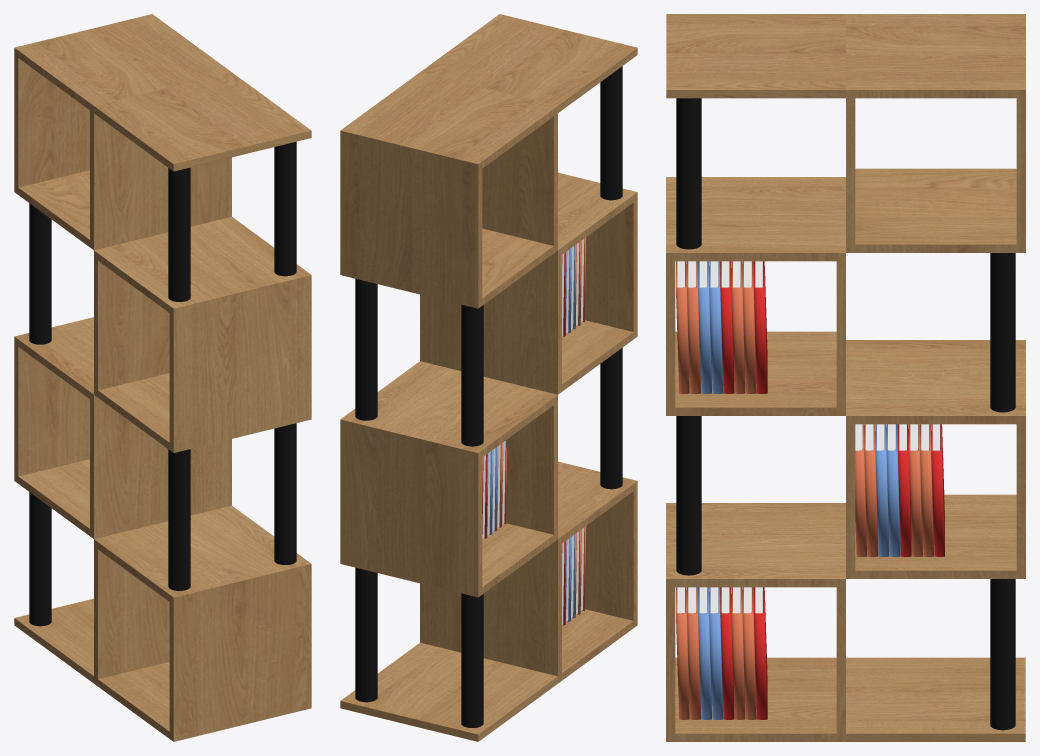
File: store2.glb
3 renders of one model, left to right at view 1: azimuth 30°, elevation 25°; view 2: azimuth 150°, elevation 25°; view 3: azimuth 270°, elevation 25°, orthographic. The views are drawn at different scales.
Visible parts, largest first — view 1: Cube, Cylinder; view 2: Cube, Cylinder, Architexture_1.001, Architexture_1.002, Architexture_1; view 3: Cube, Cylinder, Architexture_1, Architexture_1.002, Architexture_1.001.
Boxes of the visible parts, x1,y1,x2,y2 form: Cube: (14, 14, 311, 741); Cylinder: (29, 141, 296, 626); Cube: (340, 14, 637, 741); Cylinder: (355, 66, 622, 727); Architexture_1.001: (482, 441, 506, 538); Architexture_1.002: (562, 237, 586, 336); Architexture_1: (562, 526, 586, 625); Cube: (666, 14, 1025, 741); Cylinder: (676, 98, 1015, 730); Architexture_1: (676, 587, 767, 719); Architexture_1.002: (676, 261, 767, 393); Architexture_1.001: (855, 424, 944, 556).
Size of the model in its own units: 0.5156 by 2.06 by 1.03.
Materials: 6 (1 with a texture image).
